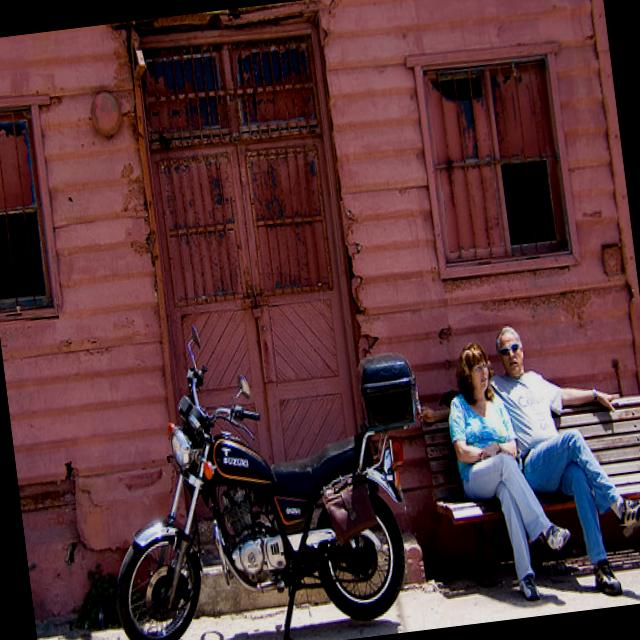Vehicle: (79, 294, 443, 640)
